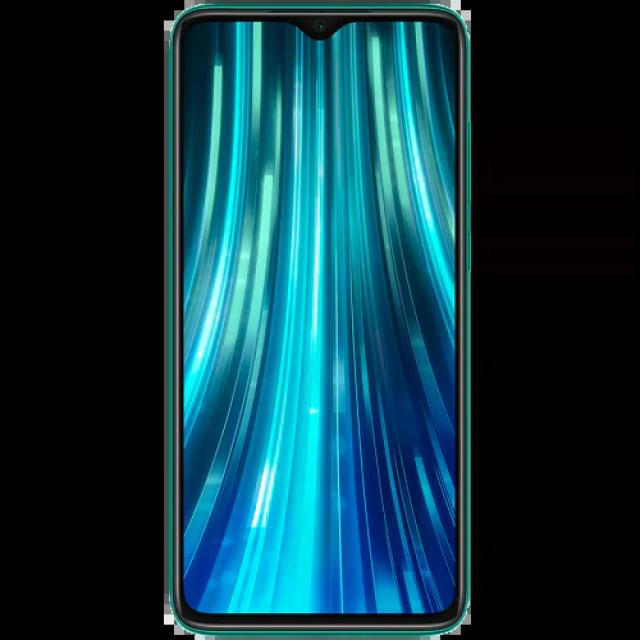Red Mi Note 8 Pro: (165, 0, 471, 640)
